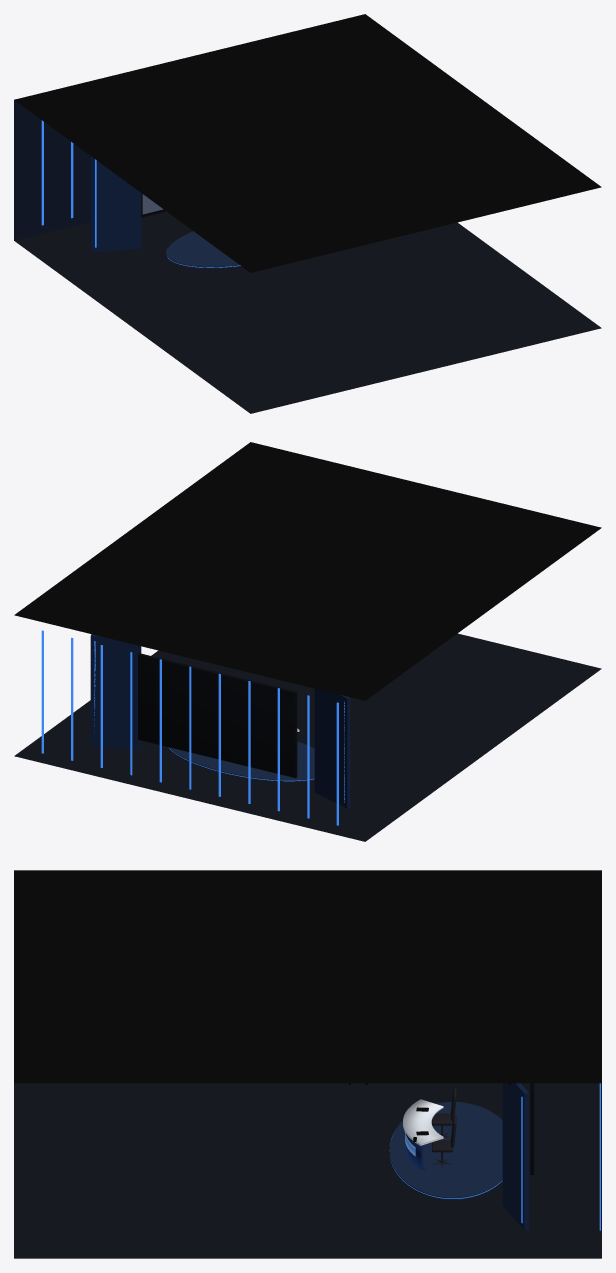
File: newsroom-late-night.glb
3 views of the same model, one above another, from view 1: azimuth 30°, elevation 25°; view 2: azimuth 150°, elevation 25°; view 3: azimuth 270°, elevation 25° (orthographic). The views are drawn at different scales.
Parts seen in each view (by area): view 1: news_ceiling, news_floor, news_backwall, news_flats, news_riser, news_glow; view 2: news_ceiling, news_floor, news_wall_frame, news_flats, news_glow, news_riser; view 3: news_ceiling, news_floor, news_riser, news_flats, news_desk_top, news_glow.
Boxes of the visible parts, box(x1,y1,x2,y2) form: news_ceiling: box(14, 14, 601, 272); news_floor: box(14, 211, 601, 413); news_backwall: box(14, 100, 90, 240); news_flats: box(90, 156, 141, 252); news_riser: box(166, 231, 241, 268); news_glow: box(41, 120, 240, 267); news_ceiling: box(14, 442, 601, 700); news_floor: box(14, 633, 601, 841); news_wall_frame: box(138, 653, 297, 778); news_flats: box(90, 634, 350, 808); news_glow: box(41, 630, 344, 825); news_riser: box(168, 741, 314, 781); news_ceiling: box(14, 870, 601, 1083); news_floor: box(14, 1083, 601, 1258); news_riser: box(390, 1102, 502, 1199); news_flats: box(502, 1083, 528, 1230); news_desk_top: box(403, 1099, 443, 1145); news_glow: box(389, 1083, 600, 1230).
Size of the model in its own units: 12 by 4.6 by 14.
